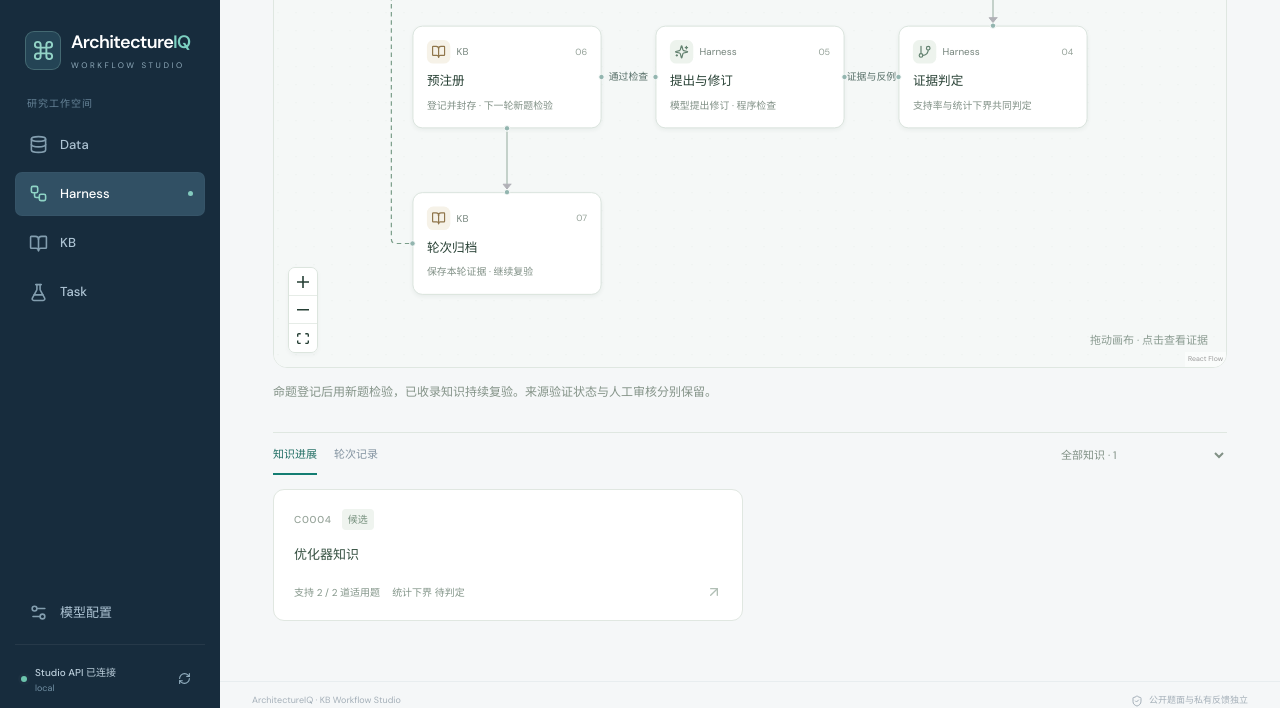
it: carries viewed evolution knowledge to Task, with evidence question=false, without starting a run
(page scrolled)
Click the button with aria-label "阅读命题 C0004": point(313, 519) [273, 489, 743, 621]
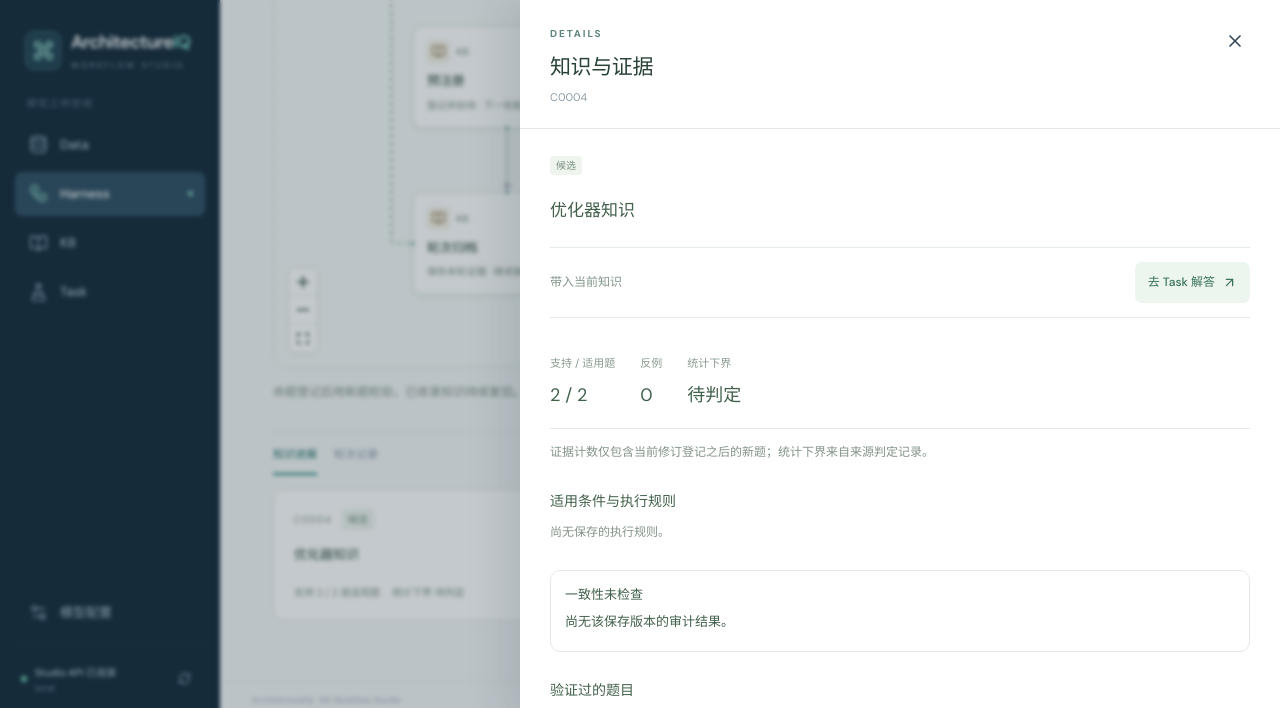
Click the button "去 Task 解答": point(1192, 283) [1135, 262, 1250, 303]
(page scrolled)
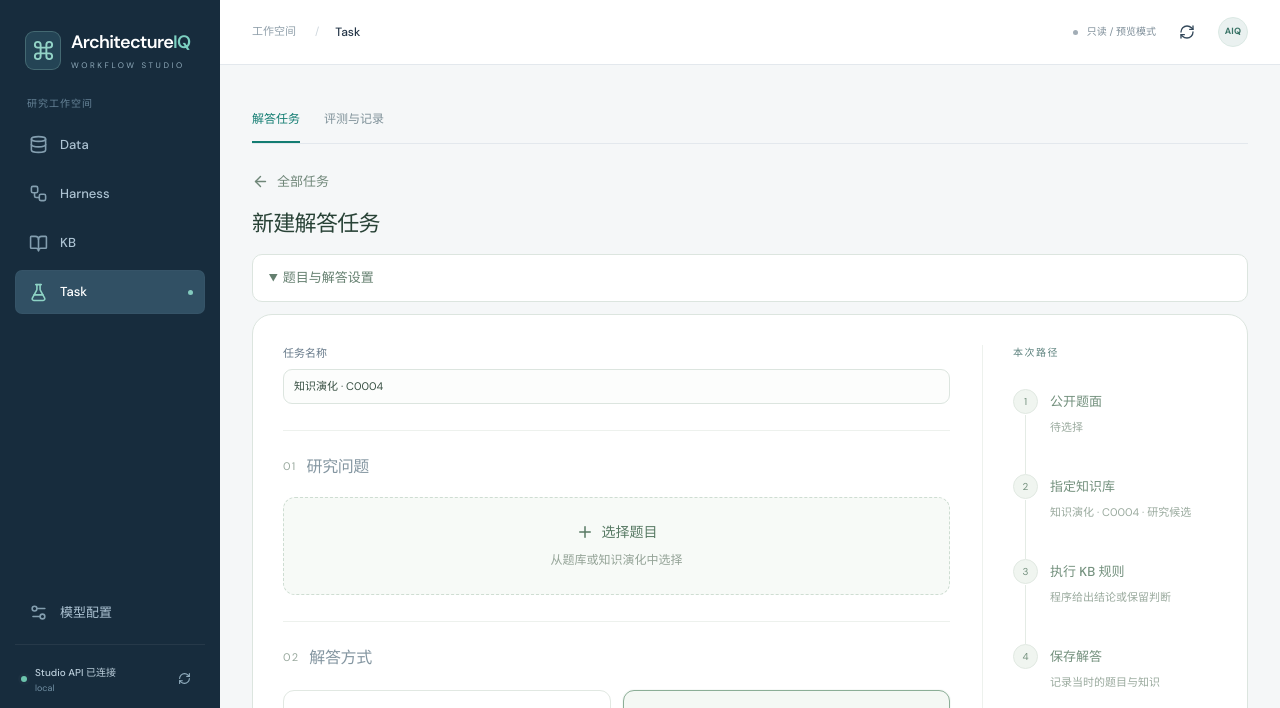
Now the heading "新建解答任务" is shown, box [252, 210, 380, 238]
Now the button "选择题目 从题库或知识演化中选择" is shown, box [283, 497, 950, 595]
Click the button with aria-label "返回任务列表": point(290, 182) [252, 168, 329, 196]
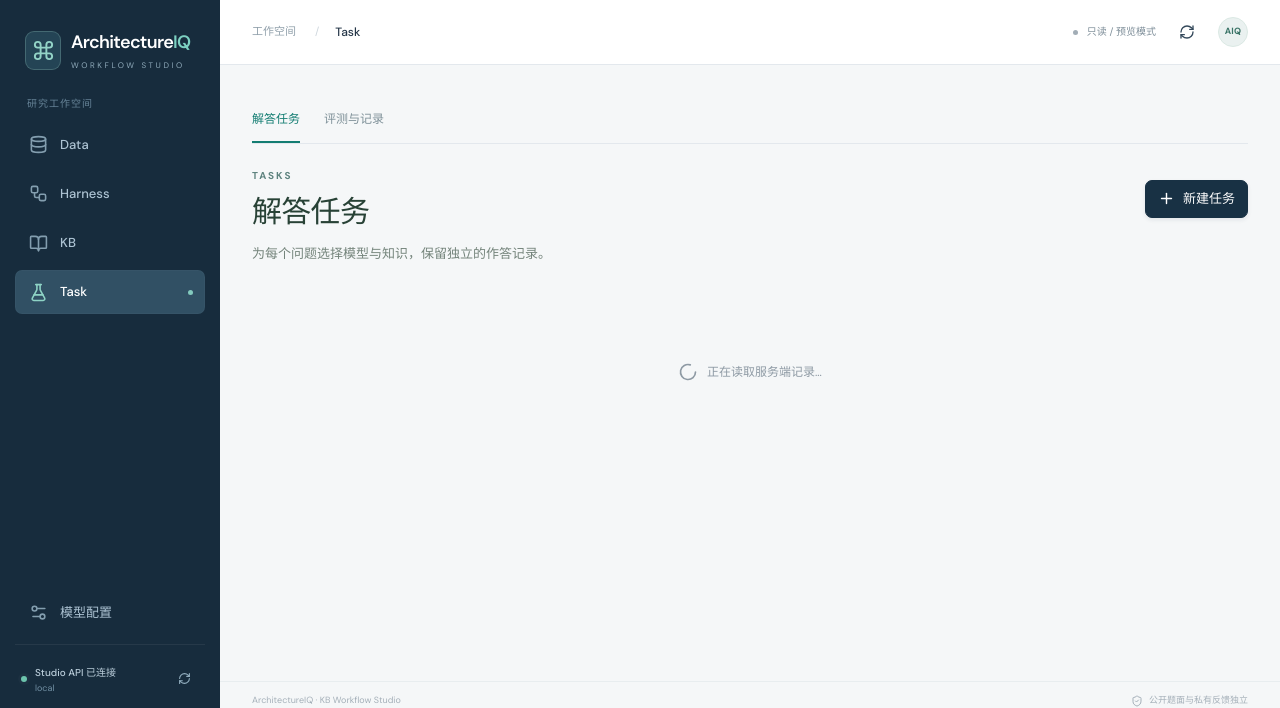
Click the button "Harness": point(110, 194) [15, 172, 205, 216]
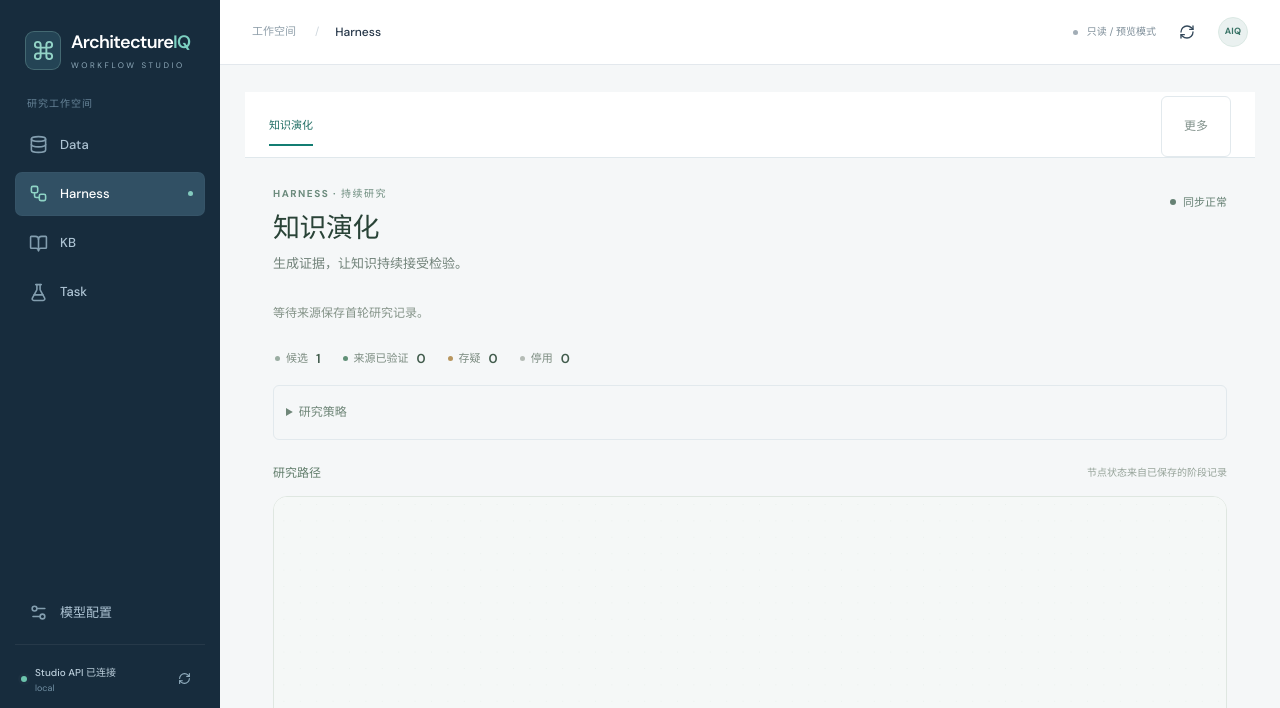
Click the button "Task": point(110, 292) [15, 270, 205, 314]
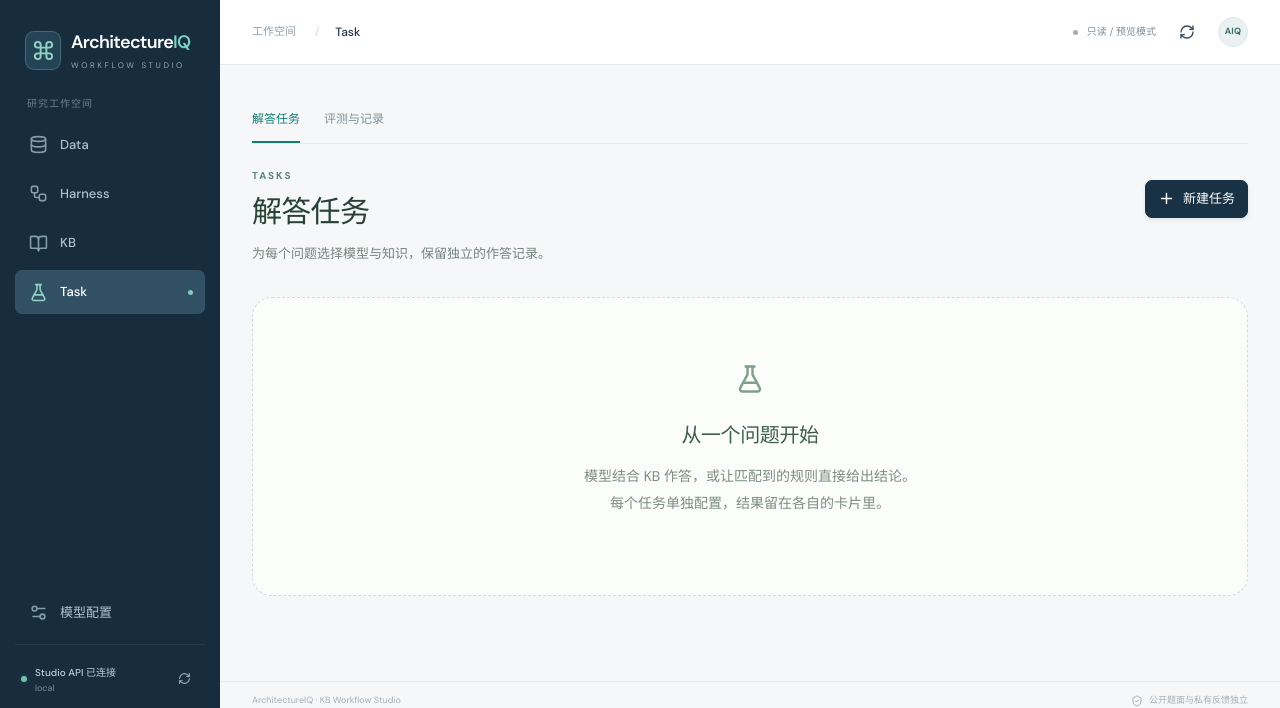
Expected: the heading "新建解答任务" is not shown
Now the heading "解答任务" is shown, box [252, 192, 369, 231]
